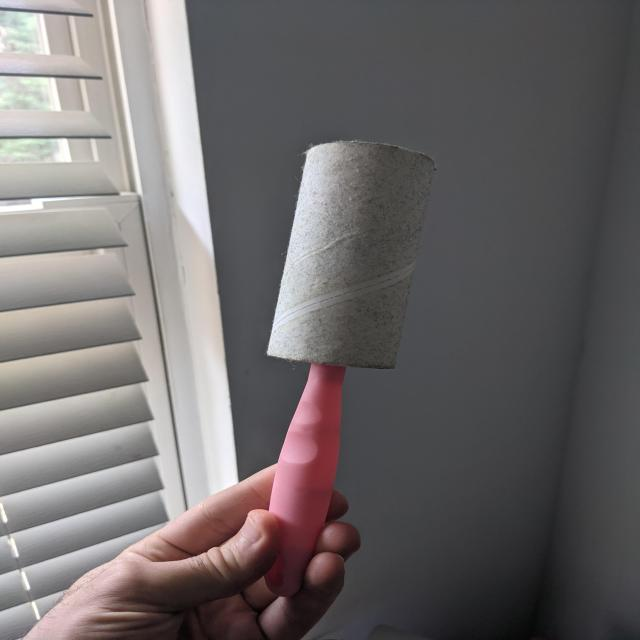litter: (260, 142, 433, 588)
